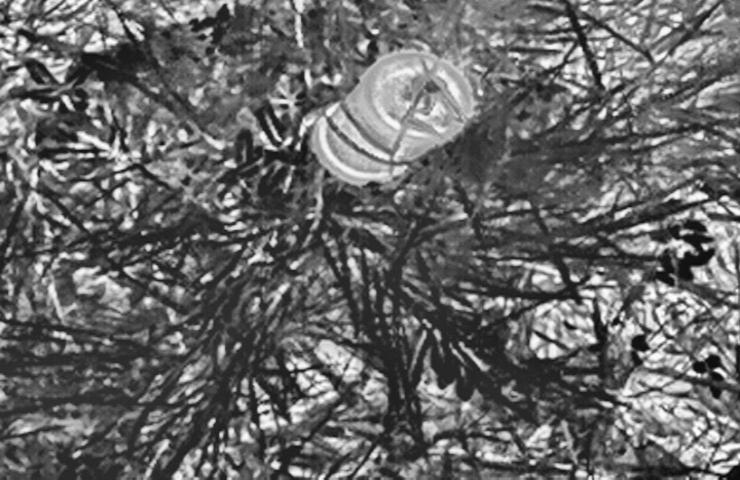landmines: (307, 38, 482, 198)
